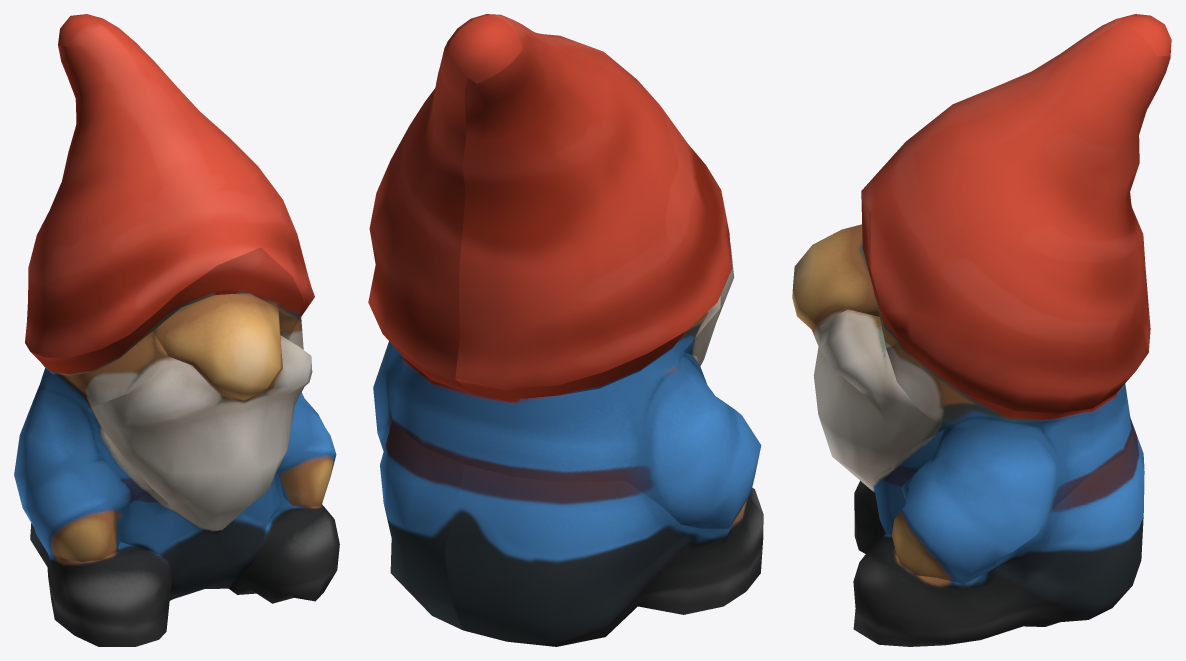
Rendered from S_GardenDwarf.fbx.
3 views of the same model, side by side, from view 1: azimuth 30°, elevation 25°; view 2: azimuth 150°, elevation 25°; view 3: azimuth 270°, elevation 25° (orthographic). The views are drawn at different scales.
Visible parts, largest first — view 1: S_GardenDwarf; view 2: S_GardenDwarf; view 3: S_GardenDwarf.
Boxes of the visible parts, x1,y1,x2,y2 form: S_GardenDwarf: (14, 14, 339, 646); S_GardenDwarf: (368, 14, 763, 646); S_GardenDwarf: (792, 14, 1171, 646).
Size of the model in its own units: 67.76 by 116 by 70.9.
